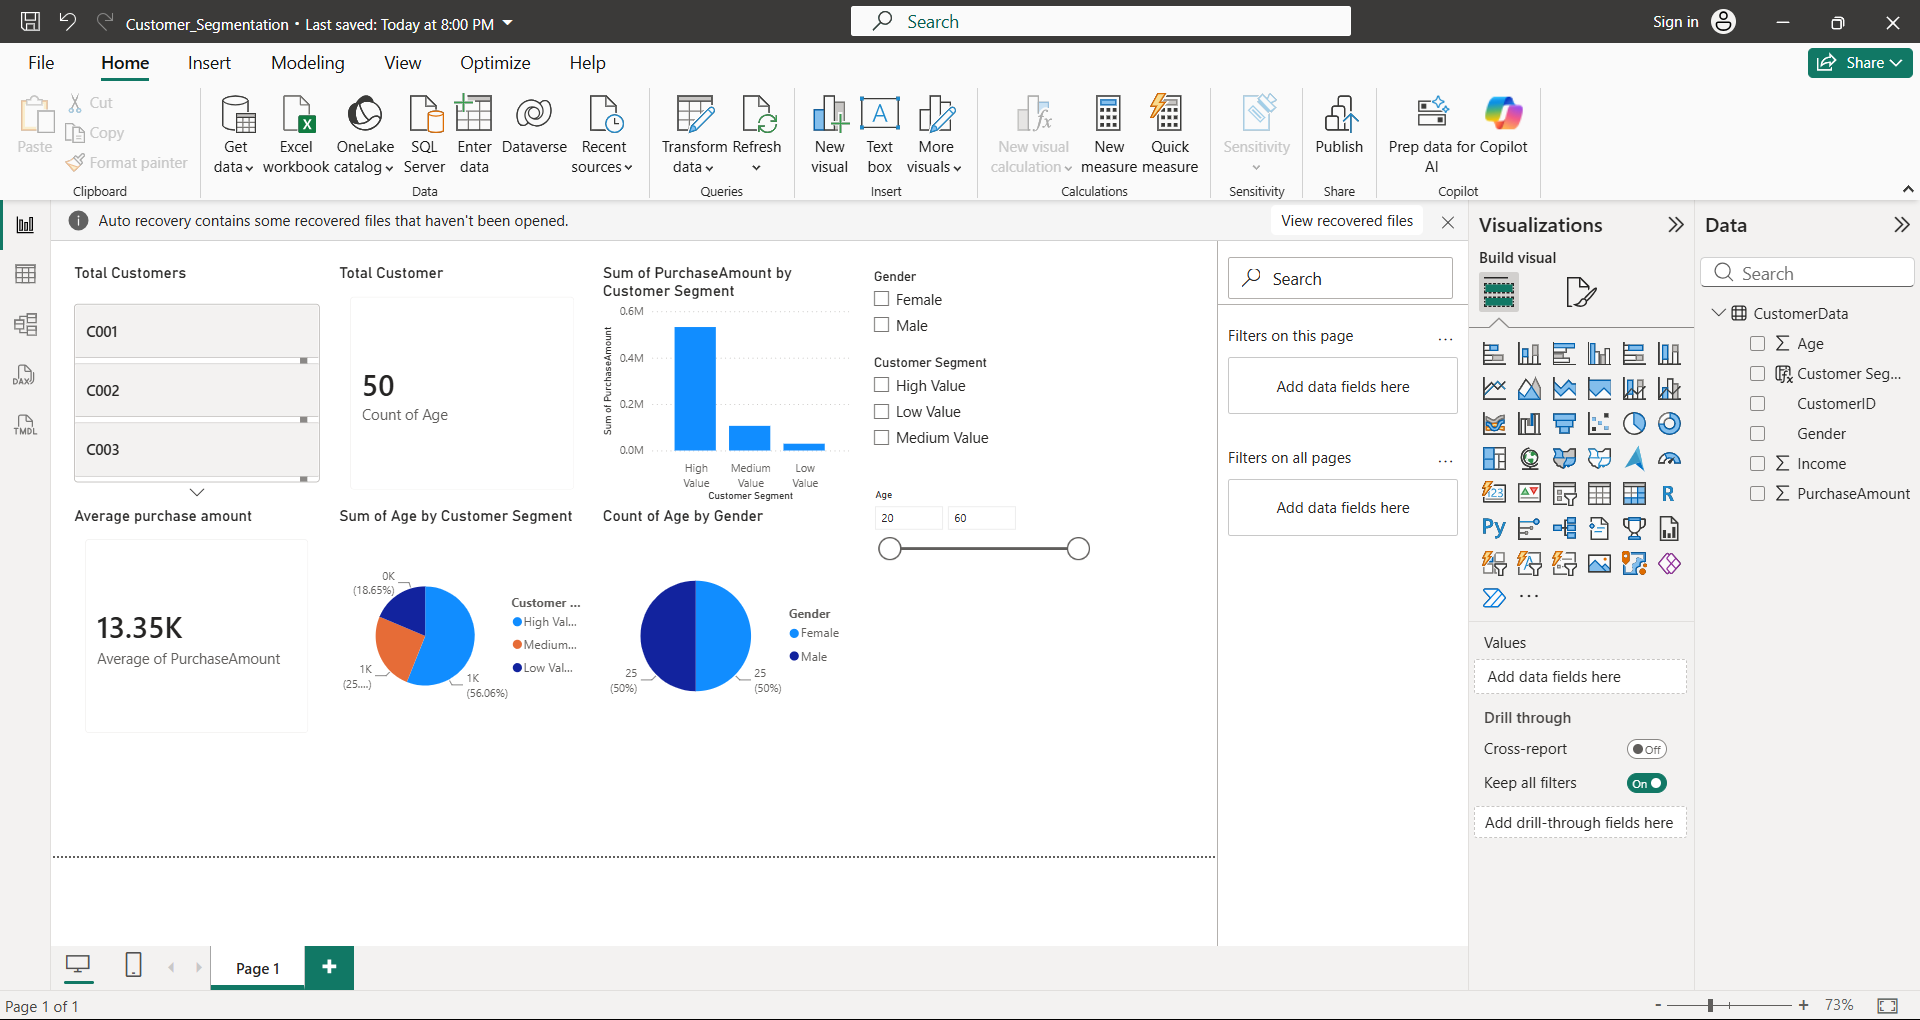

This screenshot's page, from the dashboard's own definition file:
{"tool":"powerbi","page":{"name":"Page 1","canvas":[1280,720],"ordinal":0},"visuals":[{"type":"cardVisual","title":"Total Customers","fields":{"Rows":["CustomerData.CustomerID"]},"box":[20.6,70,279.9,266.2],"z":0},{"type":"cardVisual","title":"Average purchase amount","fields":{"Data":["Avg(CustomerData.PurchaseAmount)"]},"box":[20.6,336.2,279.9,266.2],"z":1000},{"type":"cardVisual","title":"Total Customer","fields":{"Data":["CountNonNull(CustomerData.Age)"]},"box":[311,70,280,266],"z":2000},{"type":"pieChart","fields":{"Category":["CustomerData.Customer Segment"],"Y":["Sum(CustomerData.Age)"]},"box":[311,336,280,266],"z":3000},{"type":"columnChart","fields":{"Category":["CustomerData.Customer Segment"],"Y":["Sum(CustomerData.PurchaseAmount)"]},"box":[601,70,280,266],"z":4000},{"type":"pieChart","fields":{"Category":["CustomerData.Gender"],"Y":["CountNonNull(CustomerData.Age)"]},"box":[601,336,280,266],"z":5000},{"type":"slicer","fields":{"Values":["CustomerData.Gender"]},"box":[890.6,70,256.6,94.7],"z":5001},{"type":"slicer","fields":{"Values":["CustomerData.Customer Segment"]},"box":[890.6,164.7,256.6,127.6],"z":5002},{"type":"slicer","fields":{"Values":["CustomerData.Age"]},"box":[891.9,311.5,256.6,115.3],"z":5003}]}

Visuals, with their boxes on the page's 1280x720 design canvas (x1, y1, x2, y2). These are canvas units, not pixel positions in the 1920x1020 screenshot, which may show the page scaled, cropped or inside an application window:
"Total Customers" cardVisual: <box>21,70,300,336</box>
"Average purchase amount" cardVisual: <box>21,336,300,602</box>
"Total Customer" cardVisual: <box>311,70,591,336</box>
pieChart - CustomerData.Customer Segment x Sum(CustomerData.Age): <box>311,336,591,602</box>
columnChart - CustomerData.Customer Segment x Sum(CustomerData.PurchaseAmount): <box>601,70,881,336</box>
pieChart - CustomerData.Gender x CountNonNull(CustomerData.Age): <box>601,336,881,602</box>
slicer - CustomerData.Gender: <box>891,70,1147,165</box>
slicer - CustomerData.Customer Segment: <box>891,165,1147,292</box>
slicer - CustomerData.Age: <box>892,312,1148,427</box>
